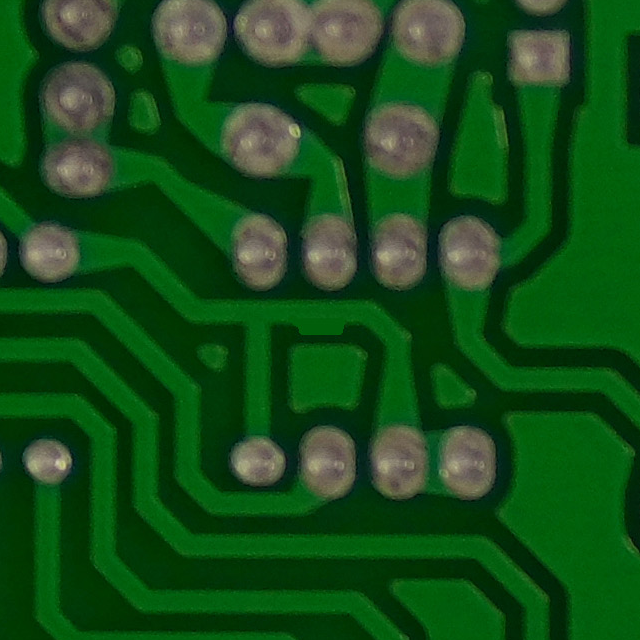spur: (281, 289, 360, 351)
